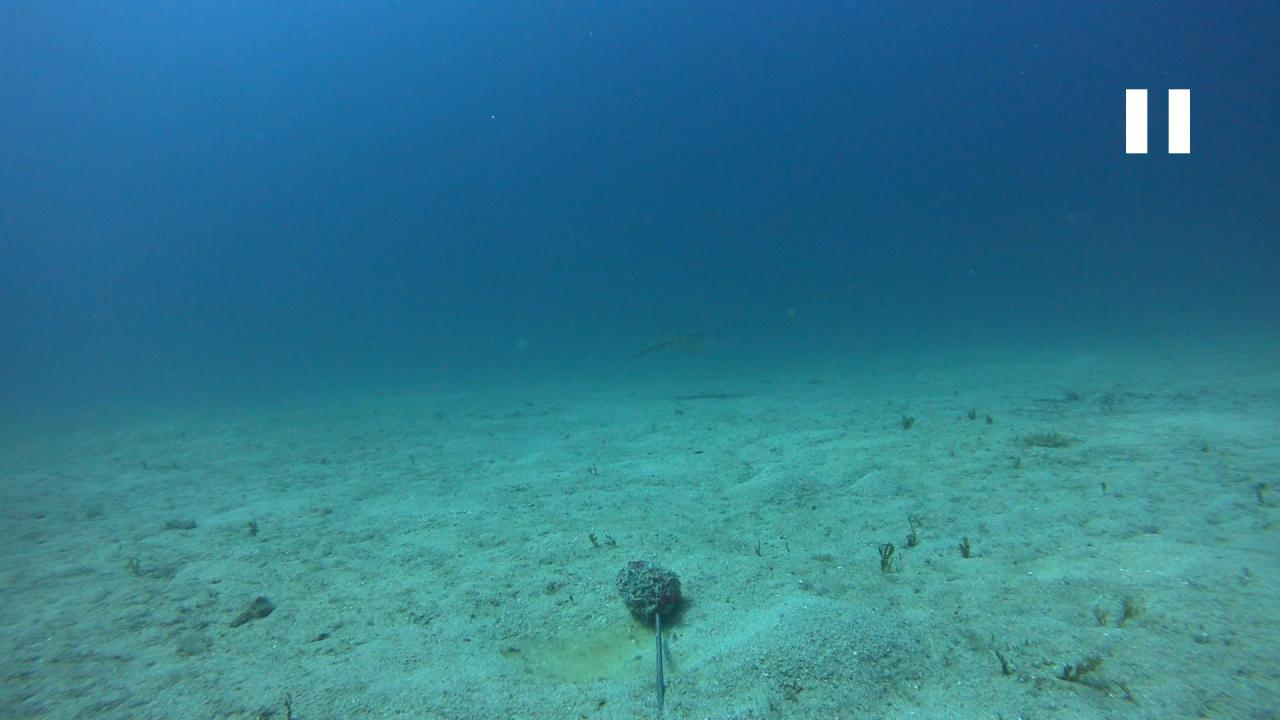dasyatis: (626, 328, 721, 362)
